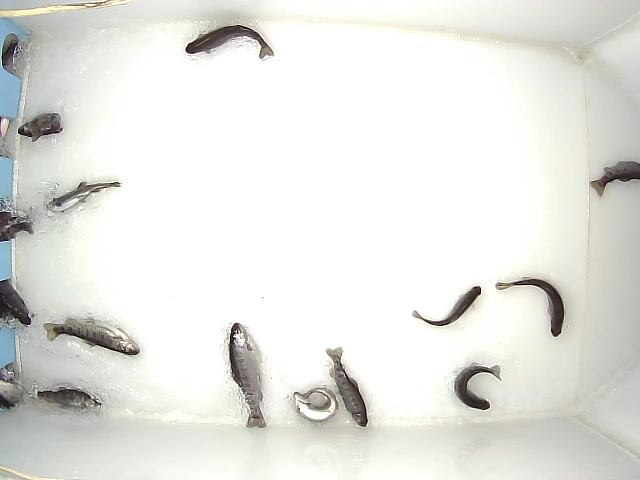fish: (495, 277, 564, 337), (229, 322, 267, 429), (43, 317, 140, 356), (325, 347, 368, 428), (185, 25, 275, 60), (412, 285, 482, 327), (45, 181, 122, 214), (589, 149, 640, 198), (454, 362, 502, 410), (37, 387, 101, 412), (293, 388, 338, 422), (18, 113, 63, 142)
